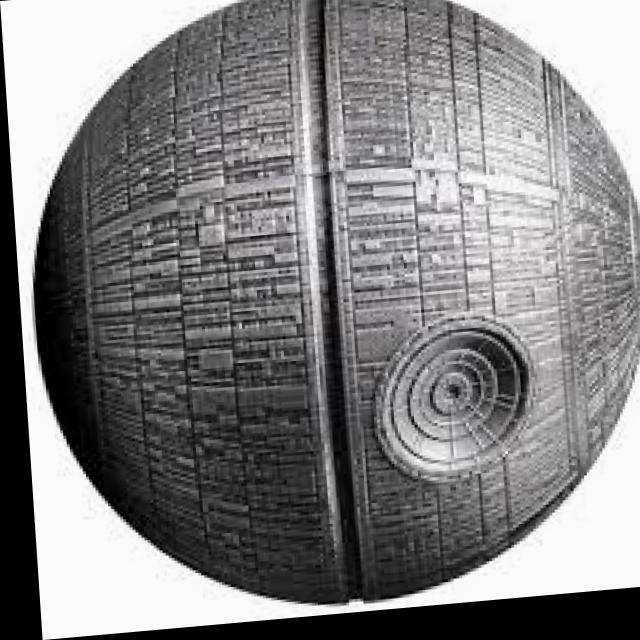deathStar: (10, 0, 640, 631)
